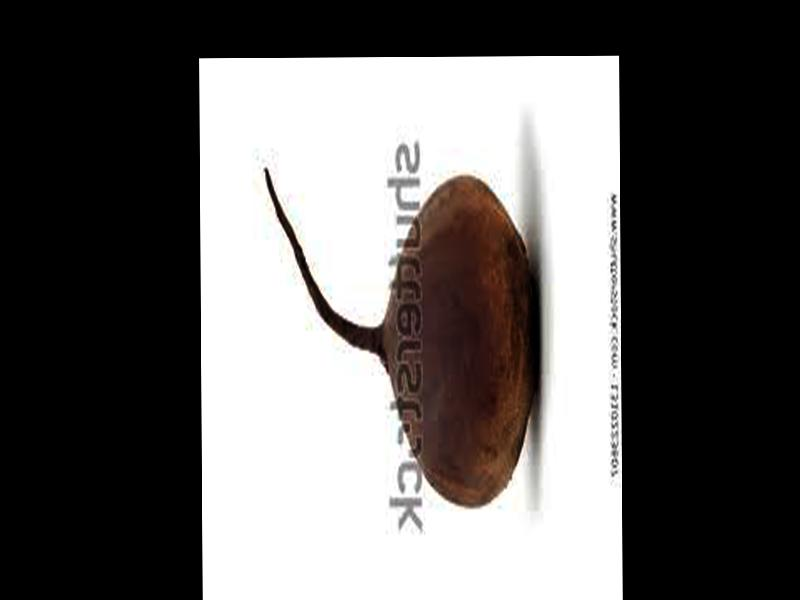Beet: (264, 167, 540, 513)
